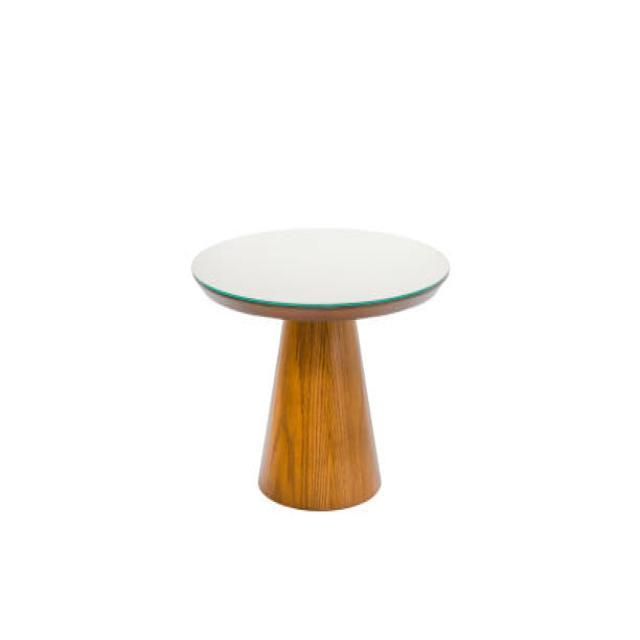table: (190, 224, 450, 512)
